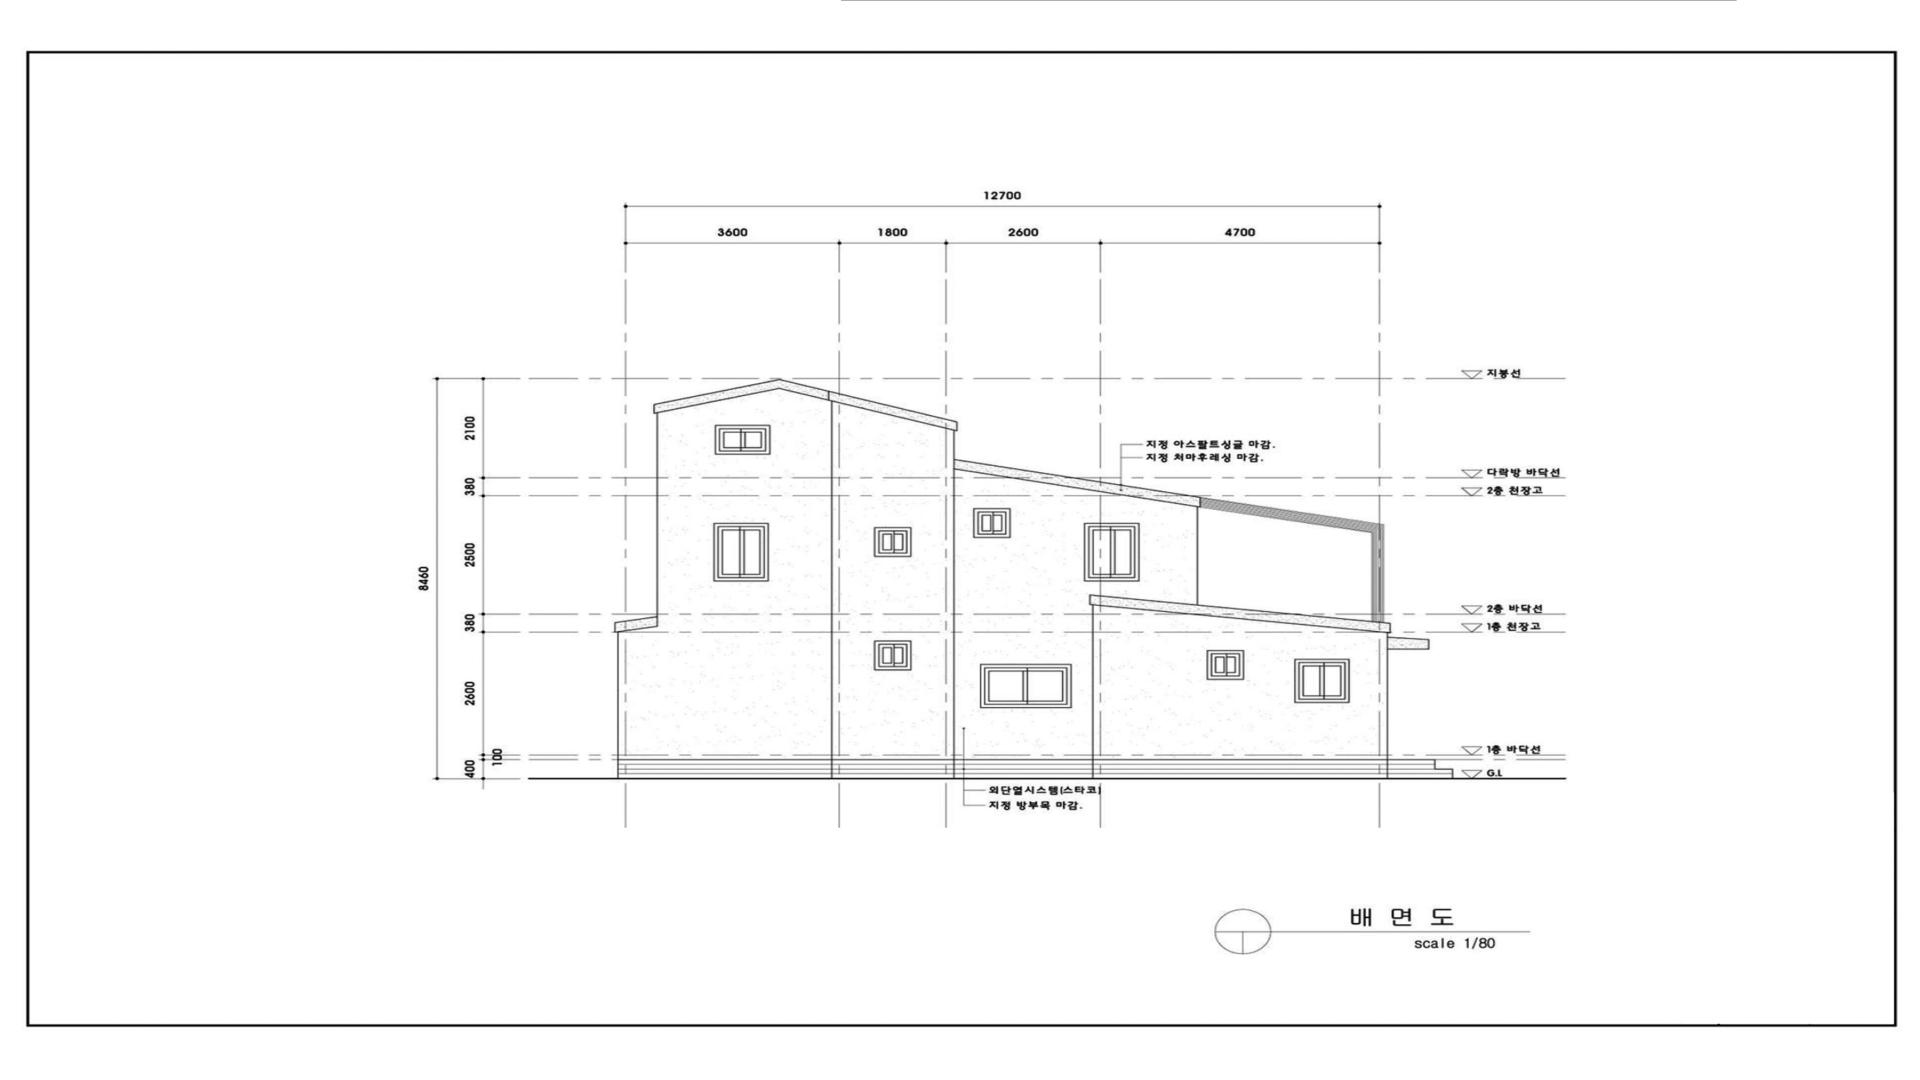wall: (615, 378, 1453, 778)
window: (980, 663, 1072, 708), (1084, 522, 1141, 582), (713, 522, 770, 582), (1294, 658, 1350, 703), (715, 425, 770, 455), (1207, 650, 1245, 680), (873, 640, 911, 670), (973, 508, 1010, 538), (874, 527, 911, 558)
